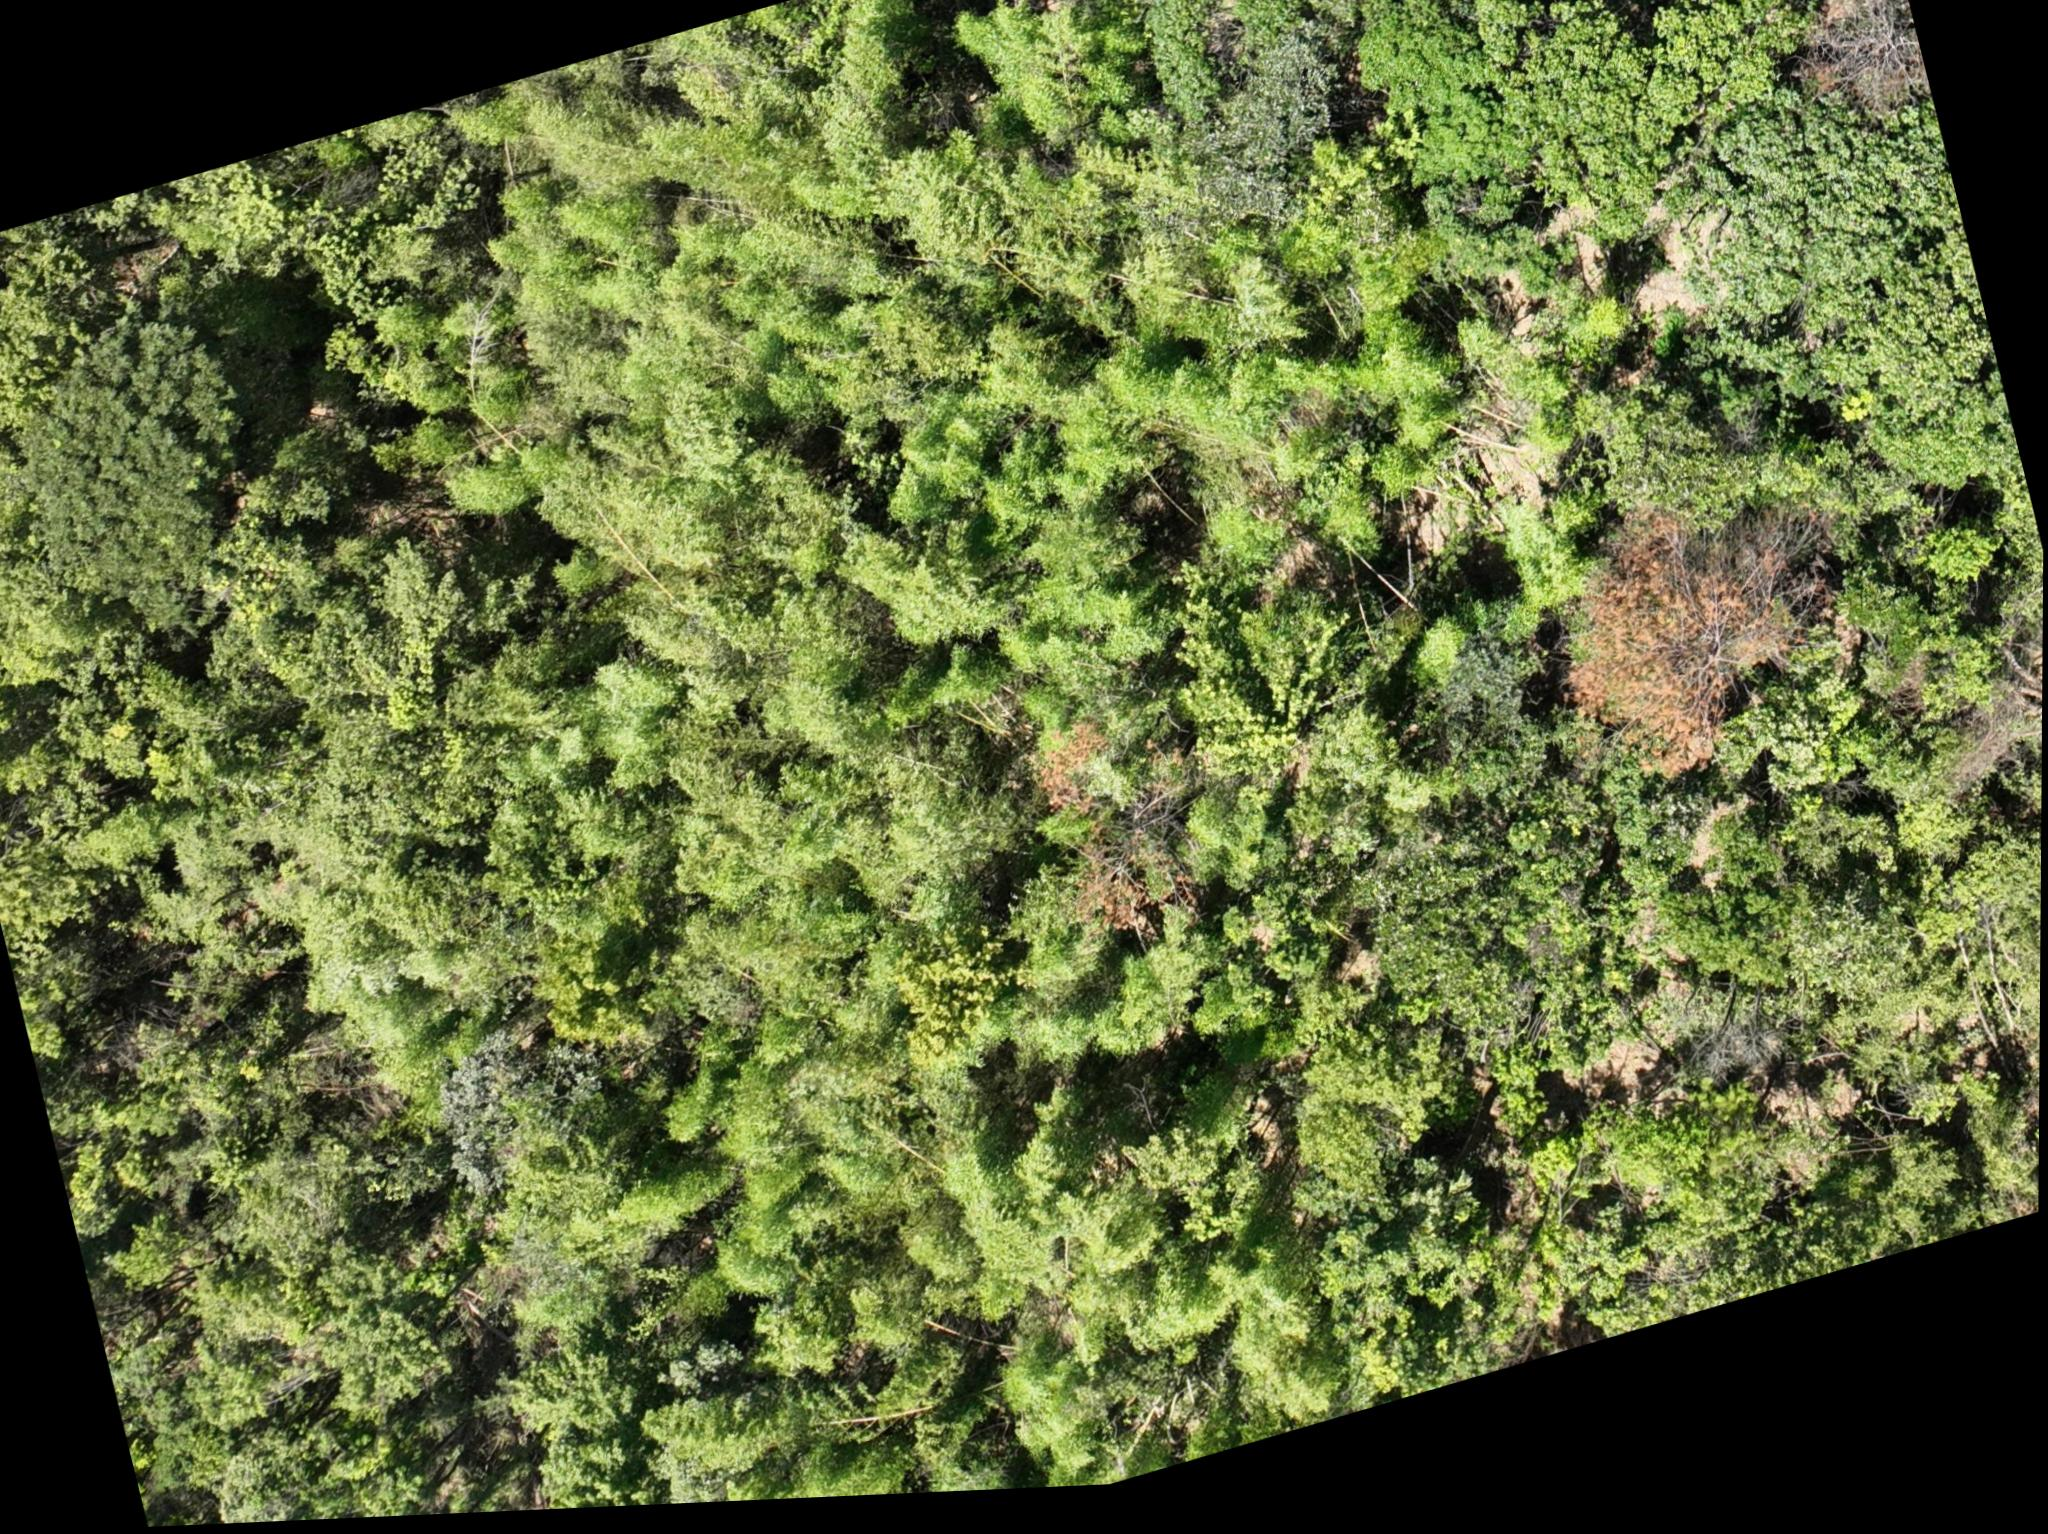dead: (1795, 0, 1927, 145)
heavy: (1529, 485, 1826, 814)
